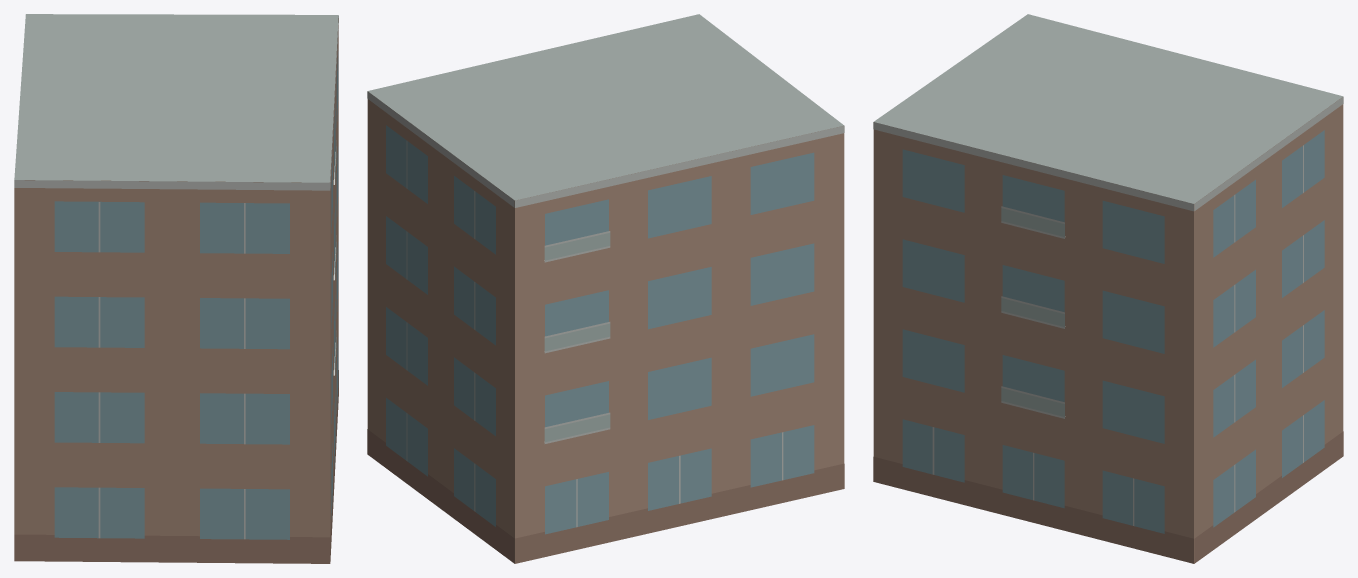
File: survey-upis-32725883.glb
3 views of the same model, side by side, from view 1: azimuth 30°, elevation 25°; view 2: azimuth 150°, elevation 25°; view 3: azimuth 270°, elevation 25° (orthographic). The views are drawn at different scales.
Parts seen in each view (by area): view 1: survey-upis-32725883.tmp; view 2: survey-upis-32725883.tmp; view 3: survey-upis-32725883.tmp.
Part boxes in pixels (<box>): survey-upis-32725883.tmp: <box>14,14,338,563</box>; survey-upis-32725883.tmp: <box>367,14,844,563</box>; survey-upis-32725883.tmp: <box>873,14,1343,563</box>.
Bounding box in the file's own units: 13.26 × 11.7 × 13.86.
